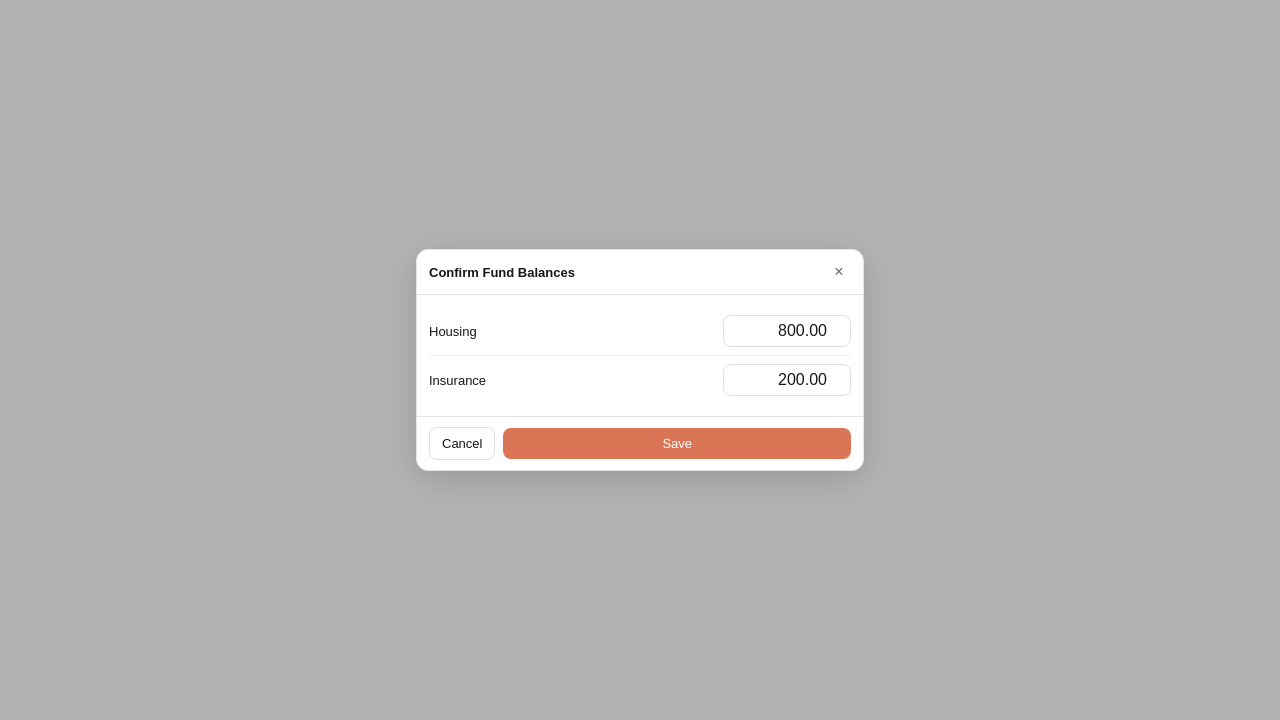
Test: ConfirmBalancesModal › shows error on API failure
Replace the text in the number field with test id "confirm-balances-input-fg1" with "1000": (787, 331) [723, 315, 851, 347]
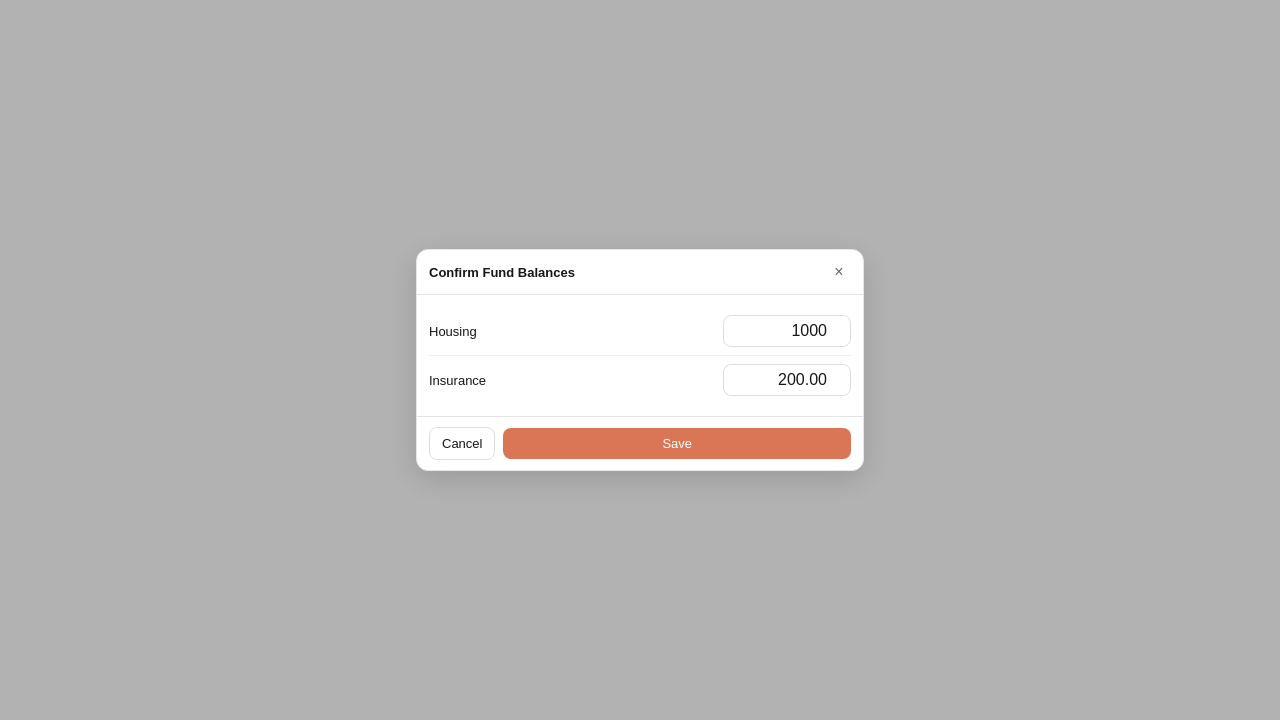
Click the button with test id "confirm-balances-save": (677, 444) [504, 428, 851, 459]
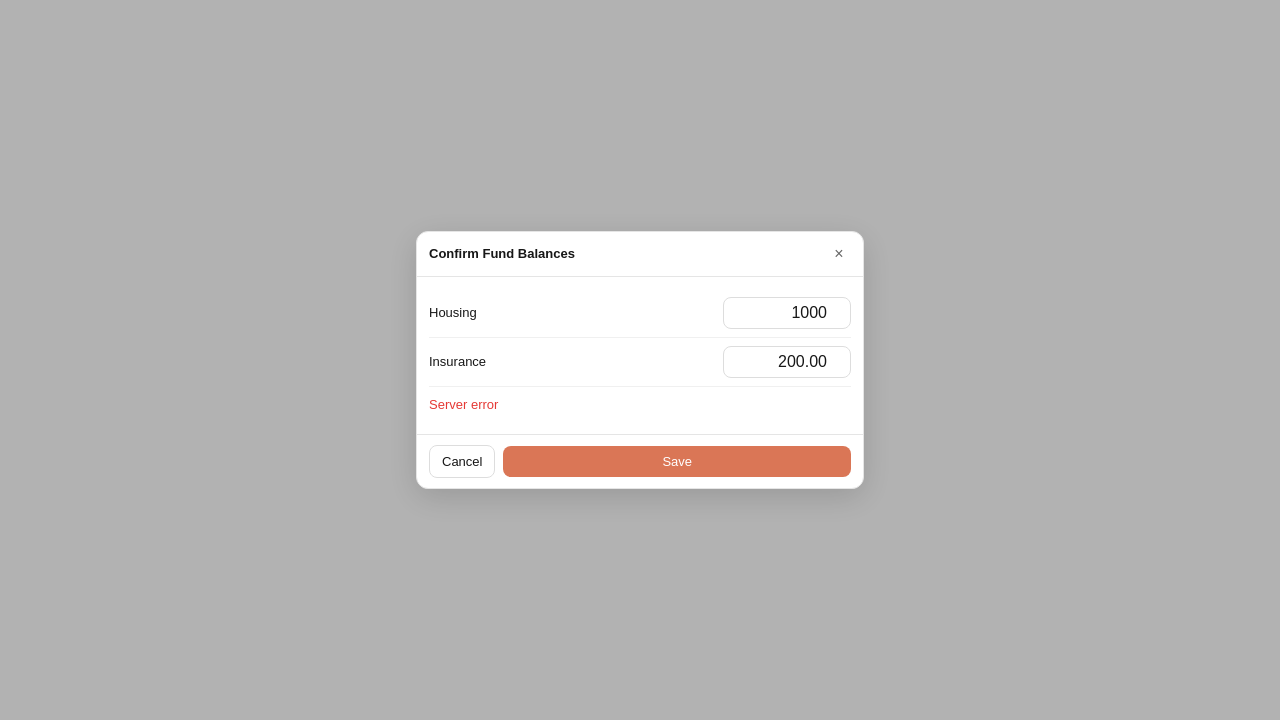
Now the text with test id "confirm-balances-error" reads "Server error", box [429, 397, 498, 412]
